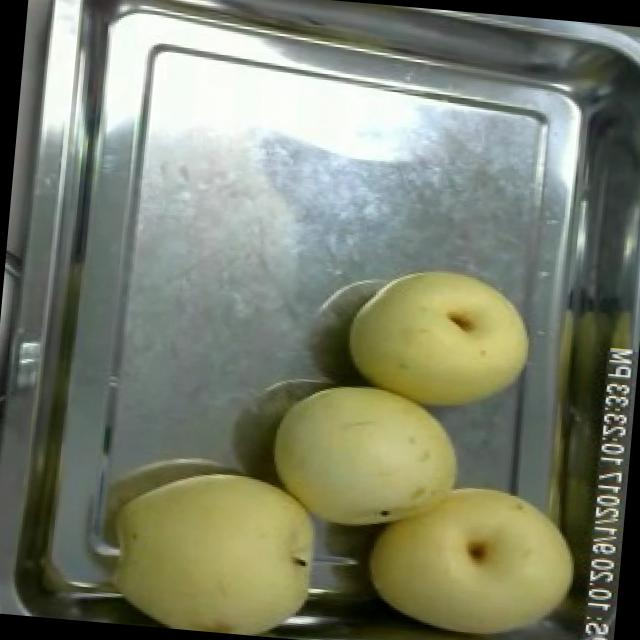Fruit: (94, 450, 336, 640), (352, 461, 597, 640), (257, 368, 474, 545), (335, 250, 544, 424)
